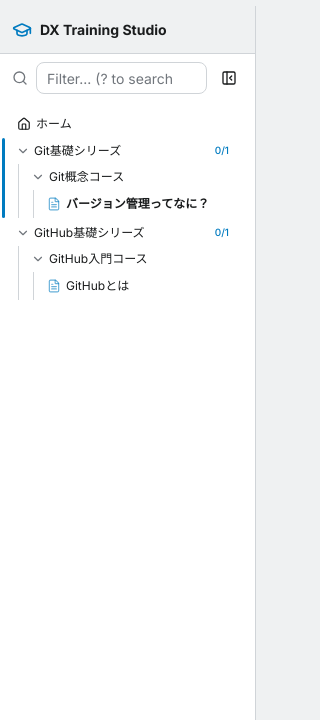
Scenario: ツリーの開閉状態の永続化（cookie → props） › 選択中の行を畳んでも cookie には含まれない（リロードで開くため）
# 選択の祖先（srs-1）を畳む
Click the 1st button named "シリーズを折りたたむ" at (23, 151), box [14, 142, 32, 160]
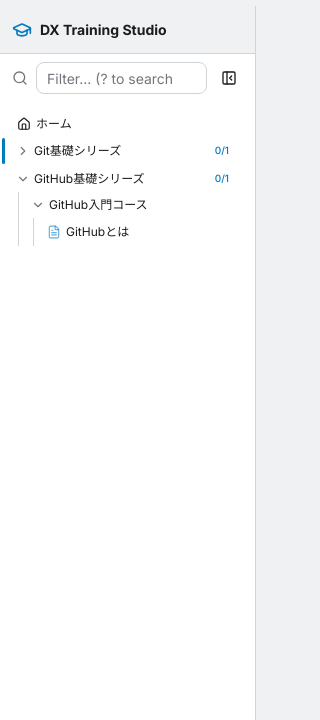
Result: the button "Git概念コース" is gone
